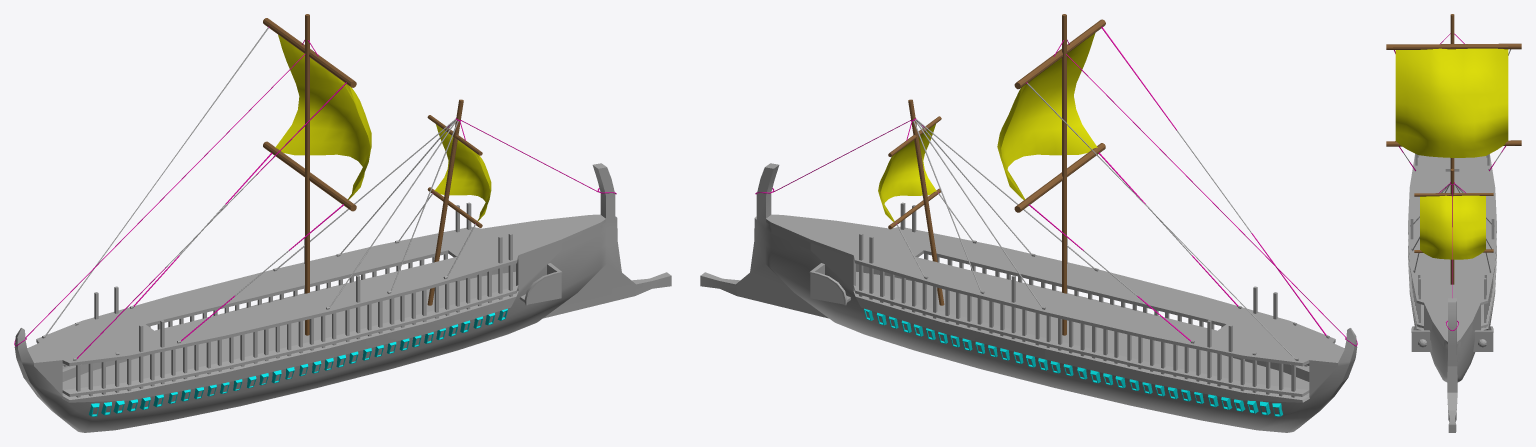
The model's file is Barco4Nuevo3.fbx.
The picture shows the model from 3 angles, left to right: view 1: azimuth 30°, elevation 25°; view 2: azimuth 150°, elevation 25°; view 3: azimuth 270°, elevation 25°; orthographic projection. The views are drawn at different scales.
Visible parts, largest first — view 1: Barco4Nuevo3; view 2: Barco4Nuevo3; view 3: Barco4Nuevo3.
Part boxes in pixels (x1,y1,x2,y2): Barco4Nuevo3: (14, 14, 671, 432); Barco4Nuevo3: (700, 14, 1357, 432); Barco4Nuevo3: (1386, 14, 1521, 432).
Size of the model in its own units: 324107 by 169796 by 74098.
